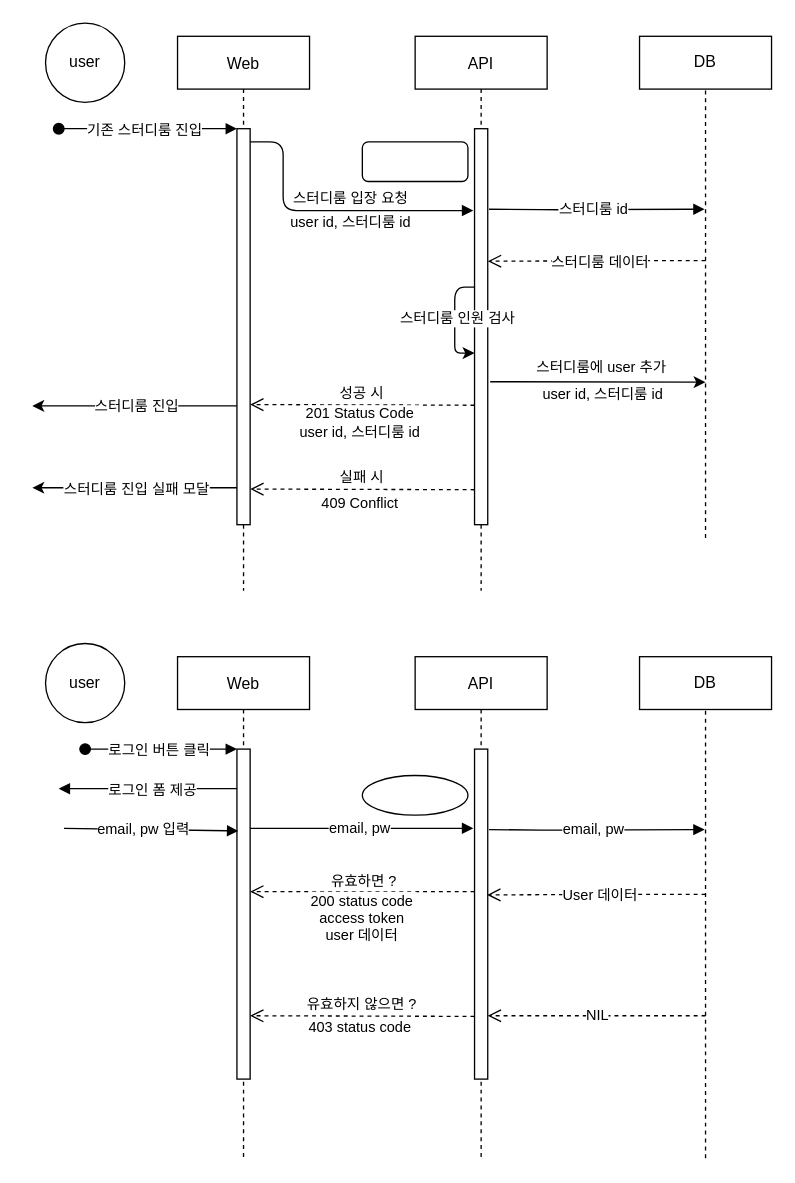
The diagram is 795 pixels wide and 1183 high, and some of its shapes have lost their labels. The centre of each missing label's shape, as x and y in pixels:
"PATCH /rooms/:id" belongs at [414,161].
"POST/login" belongs at [414,794].
